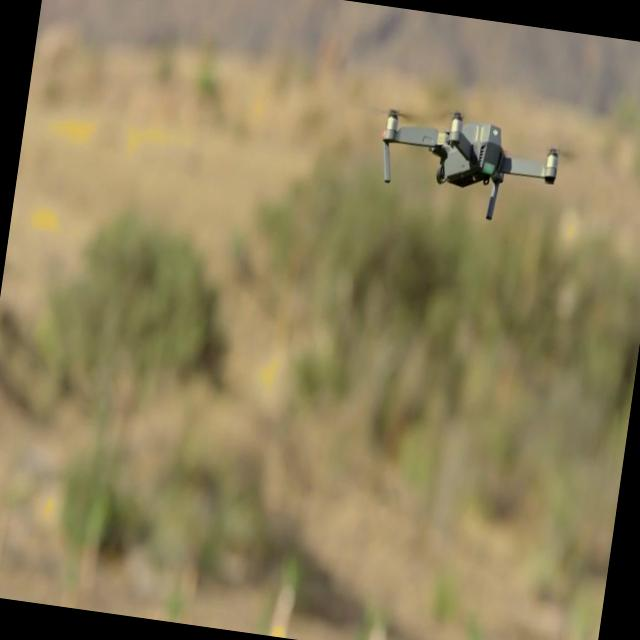drone: (367, 98, 574, 243)
